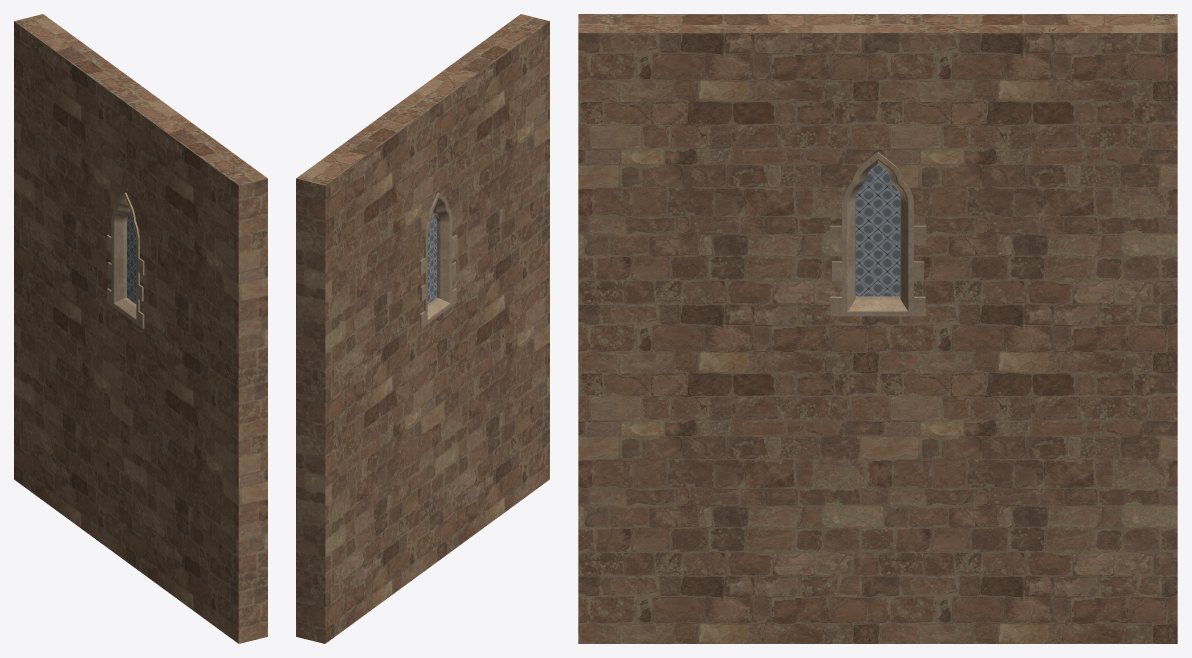
File: SM_ChurchB.fbx
The picture shows the model from 3 angles, left to right: view 1: azimuth 30°, elevation 25°; view 2: azimuth 150°, elevation 25°; view 3: azimuth 270°, elevation 25°; orthographic projection. The views are drawn at different scales.
Parts seen in each view (by area): view 1: SM_ChurchB_LOD0; view 2: SM_ChurchB_LOD0; view 3: SM_ChurchB_LOD0.
Boxes of the visible parts, box(x1,y1,x2,y2) form: SM_ChurchB_LOD0: box(14, 14, 267, 643); SM_ChurchB_LOD0: box(296, 14, 549, 643); SM_ChurchB_LOD0: box(578, 14, 1177, 643).
Bounding box in the file's own units: 33.26 × 400 × 450.
3 materials, 3 textured.
